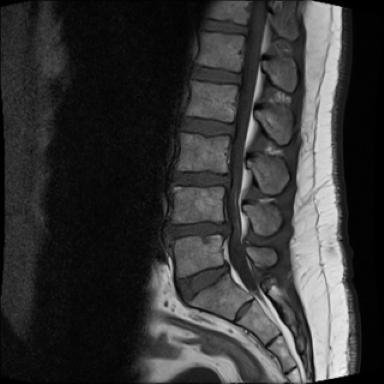Lumbar Disc Bulge (LDB): (174, 256, 238, 307), (163, 213, 235, 247), (167, 171, 238, 189)
Normal IVD: (175, 113, 240, 138), (186, 64, 245, 87), (190, 16, 251, 38)
Spinal Stenosis (SS): (220, 166, 235, 190), (219, 218, 234, 239), (220, 258, 233, 279)
